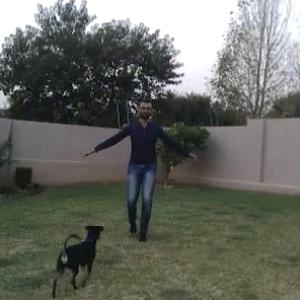land: (79, 71, 226, 269)
